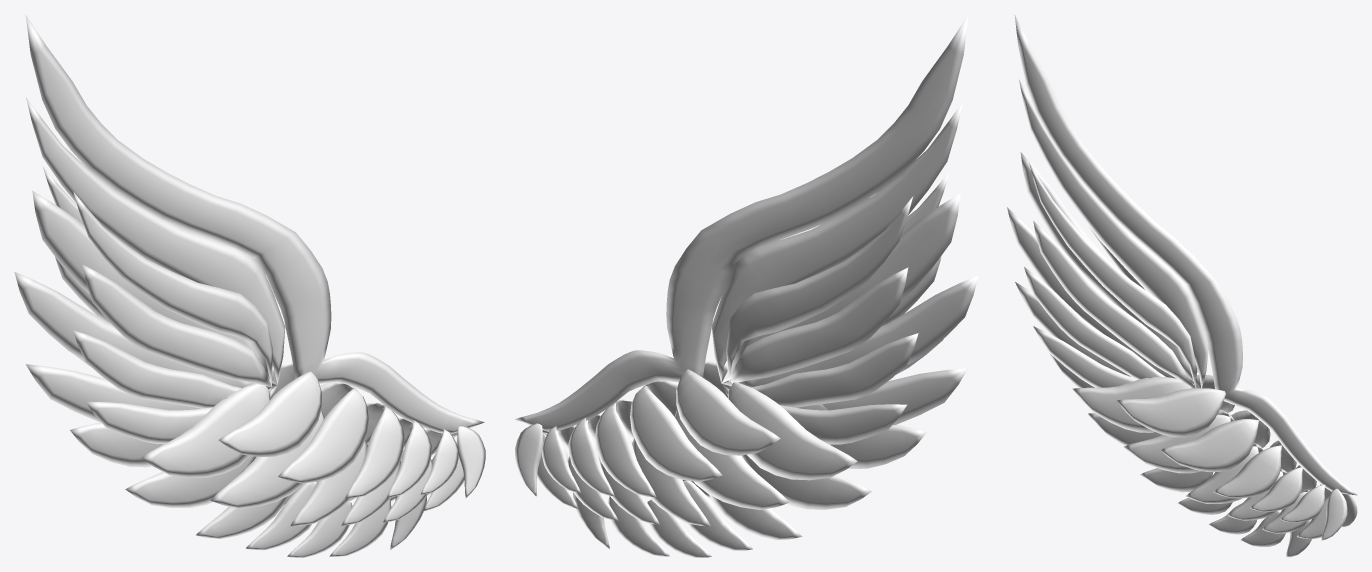
File: rightwing.obj
3 renders of one model, left to right at view 1: azimuth 30°, elevation 25°; view 2: azimuth 150°, elevation 25°; view 3: azimuth 330°, elevation 25°, orthographic. The views are drawn at different scales.
Parts seen in each view (by area): view 1: polySurface91; view 2: polySurface91; view 3: polySurface91.
Boxes of the visible parts, x1,y1,x2,y2 form: polySurface91: (14, 15, 485, 557); polySurface91: (515, 14, 978, 557); polySurface91: (1007, 14, 1357, 557).
Size of the model in its own units: 0.5541 by 0.7067 by 0.1093.
Materials: 1 (1 with a texture image).
